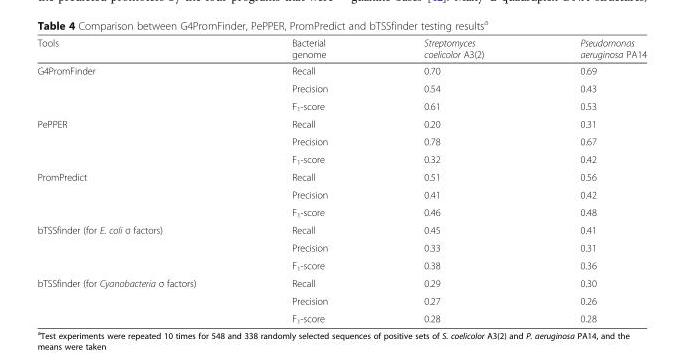table: (36, 36, 646, 324)
table column: (36, 36, 243, 324), (375, 36, 531, 324), (243, 36, 375, 324), (531, 36, 646, 324)
table column header: (36, 36, 646, 62)
table row: (36, 36, 646, 62), (36, 96, 646, 115), (36, 132, 646, 150), (36, 150, 646, 168), (36, 185, 646, 203), (36, 220, 646, 238), (36, 238, 646, 256), (36, 273, 646, 291), (36, 291, 646, 309), (36, 62, 646, 79), (36, 79, 646, 96), (36, 115, 646, 132), (36, 168, 646, 185), (36, 203, 646, 220), (36, 256, 646, 273), (36, 309, 646, 324)
table spanning cell: (36, 62, 243, 115), (36, 115, 243, 168), (36, 220, 243, 273), (36, 168, 243, 220), (36, 273, 243, 324)
